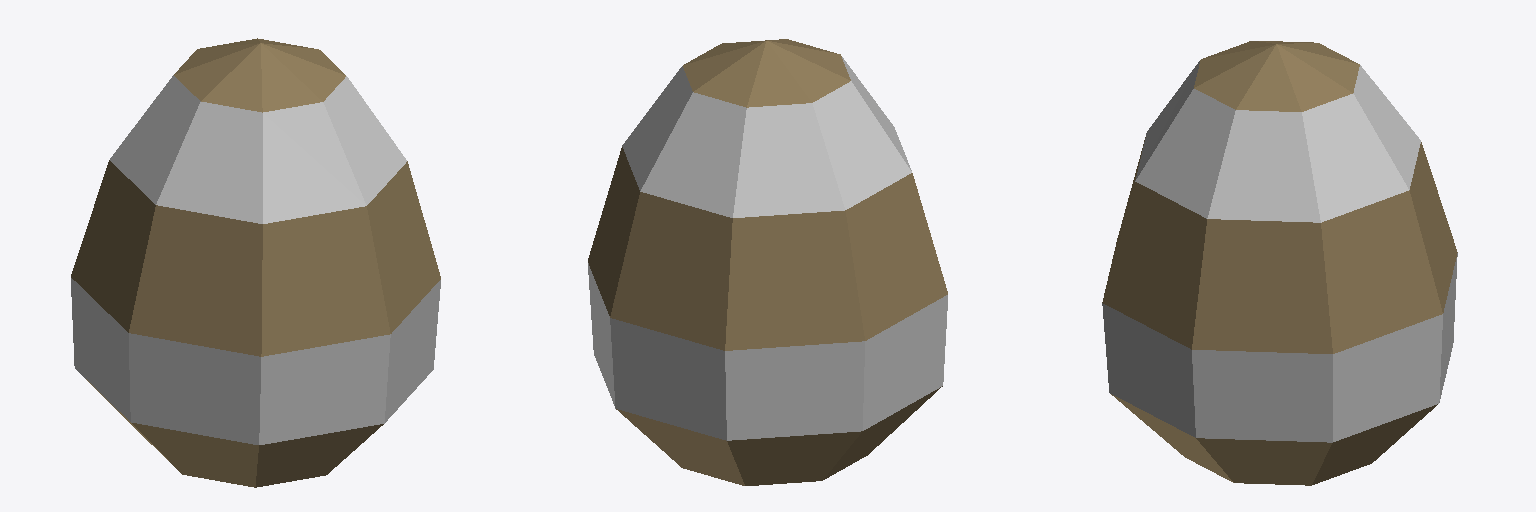
Rendered from huevo7.obj.
The picture shows the model from 3 angles: view 1: azimuth 30°, elevation 25°; view 2: azimuth 150°, elevation 25°; view 3: azimuth 270°, elevation 25°; orthographic projection.
Parts seen in each view (by area): view 1: Object_0.007; view 2: Object_0.007; view 3: Object_0.007.
Boxes of the visible parts, x1=… form: Object_0.007: x1=71, y1=38, x2=440, y2=487; Object_0.007: x1=588, y1=39, x2=947, y2=485; Object_0.007: x1=1102, y1=41, x2=1457, y2=485.
Bounding box in the file's own units: 0.3904 × 0.5173 × 0.3904.